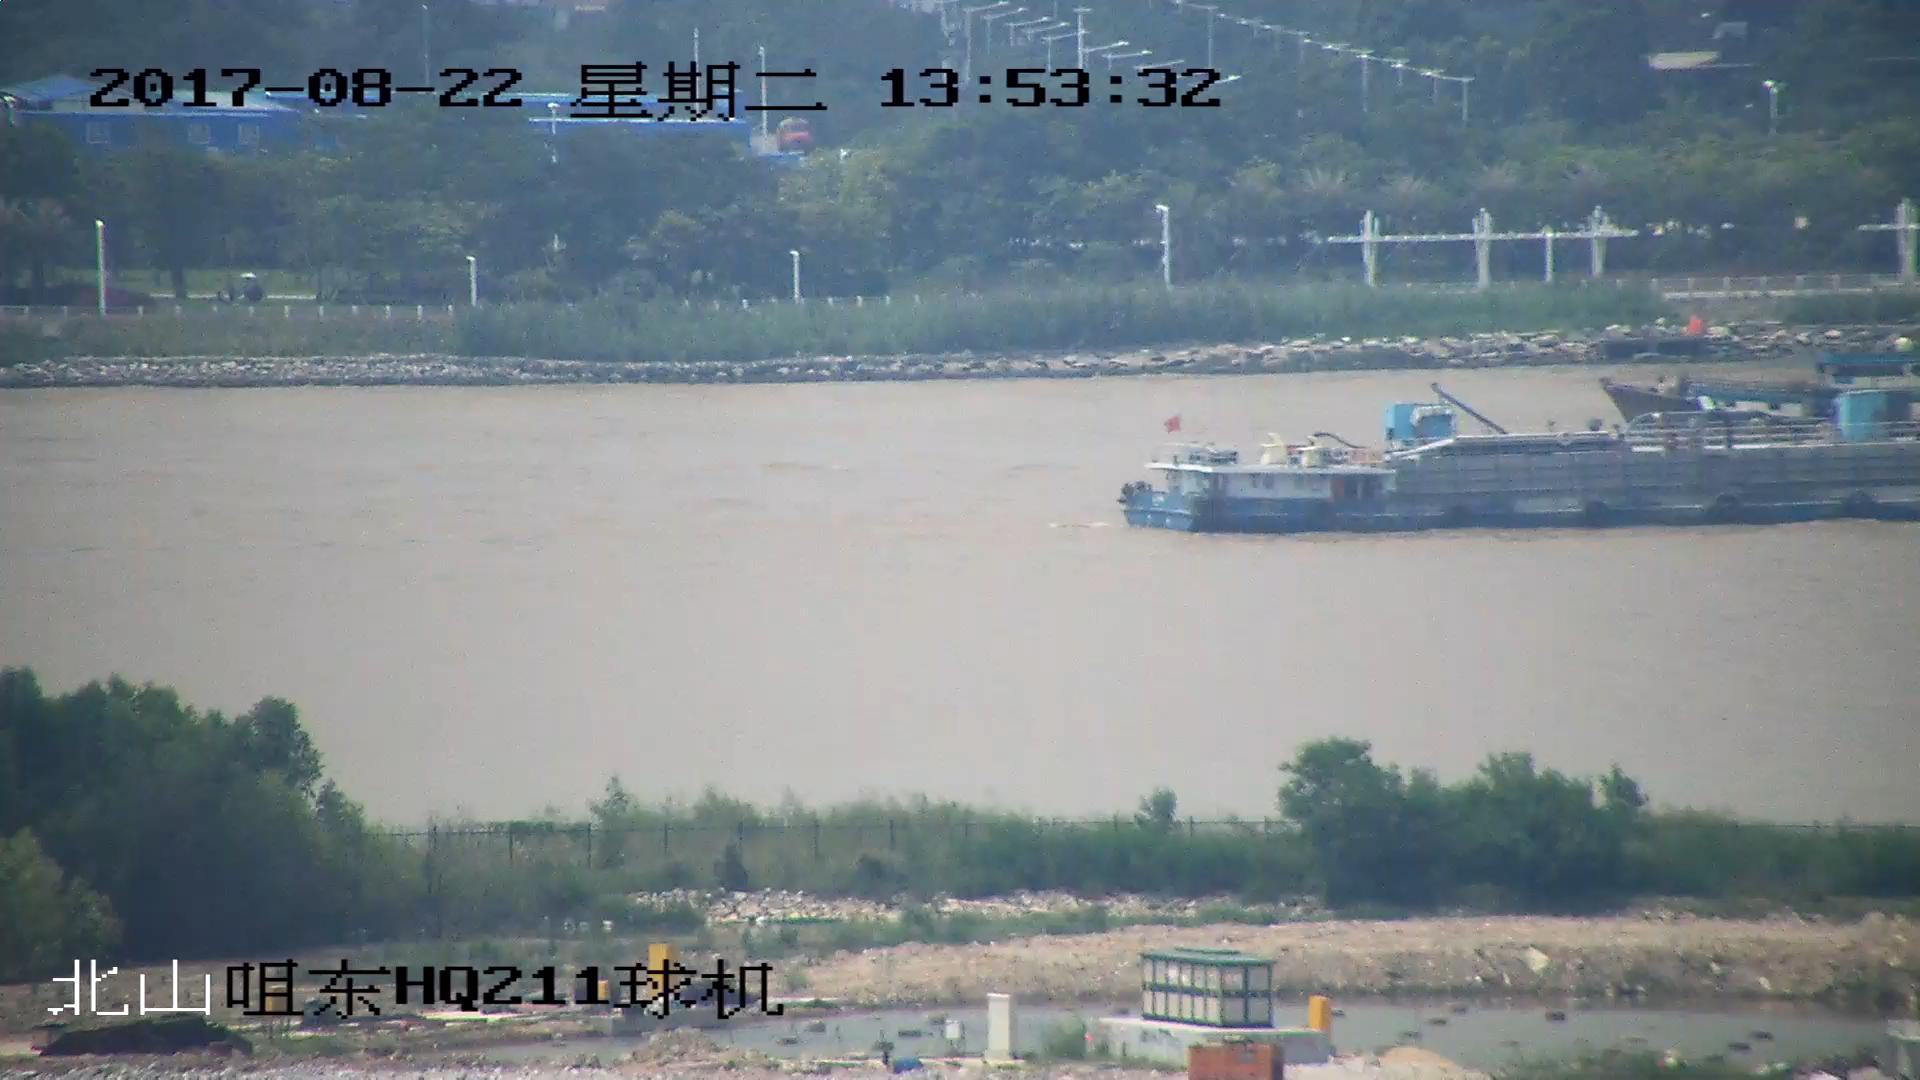fishing boat: (1597, 320, 1920, 444)
general cargo ship: (1118, 407, 1920, 537)
